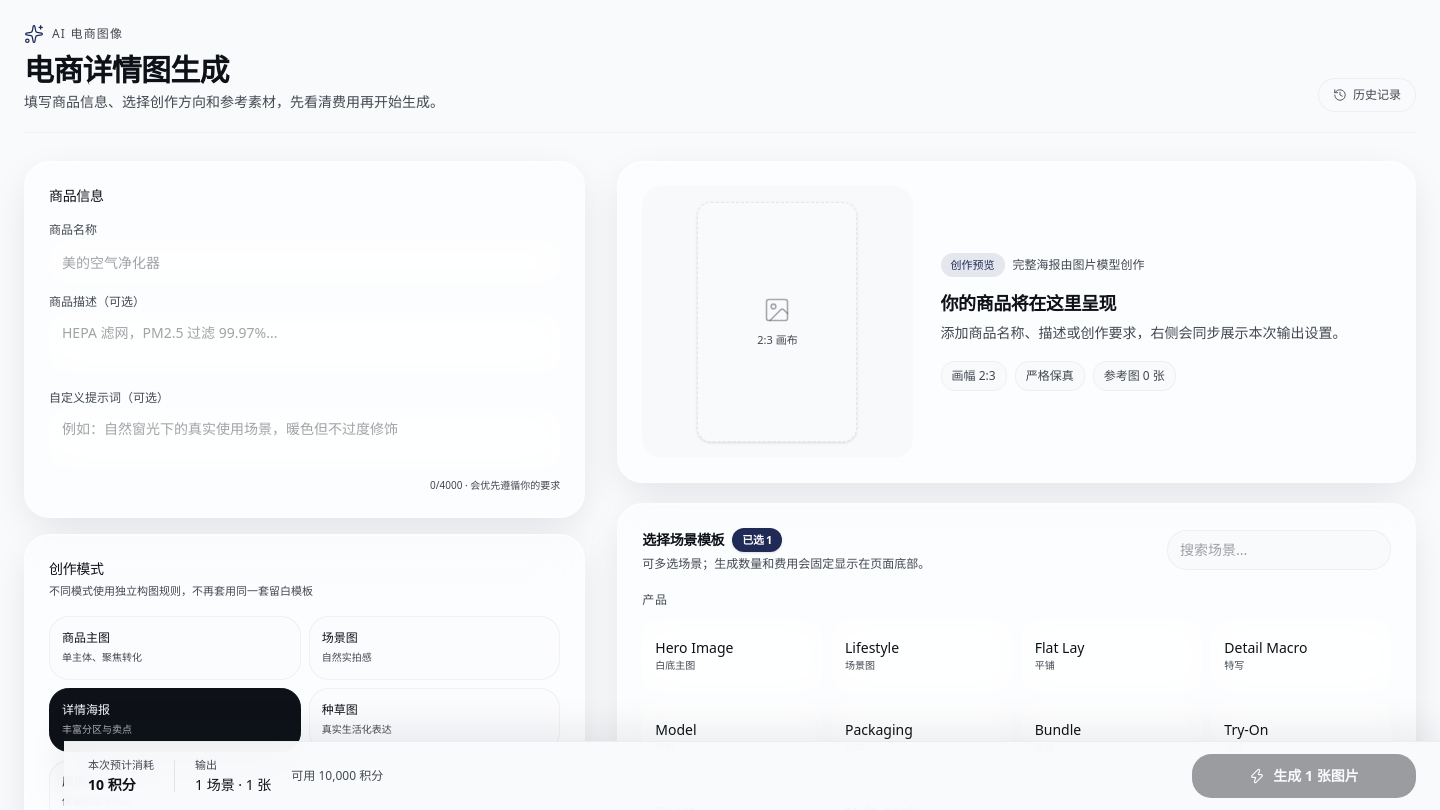
EcomImagesPage interactions › searching with filter input narrows down visible scenes
Expected: the text "产品" is shown, [642,591,668,608]
Type a filter that only matches "hero"
Type "hero" into the field with placeholder "搜索场景..." at (1279, 550), box [1167,530,1391,570]
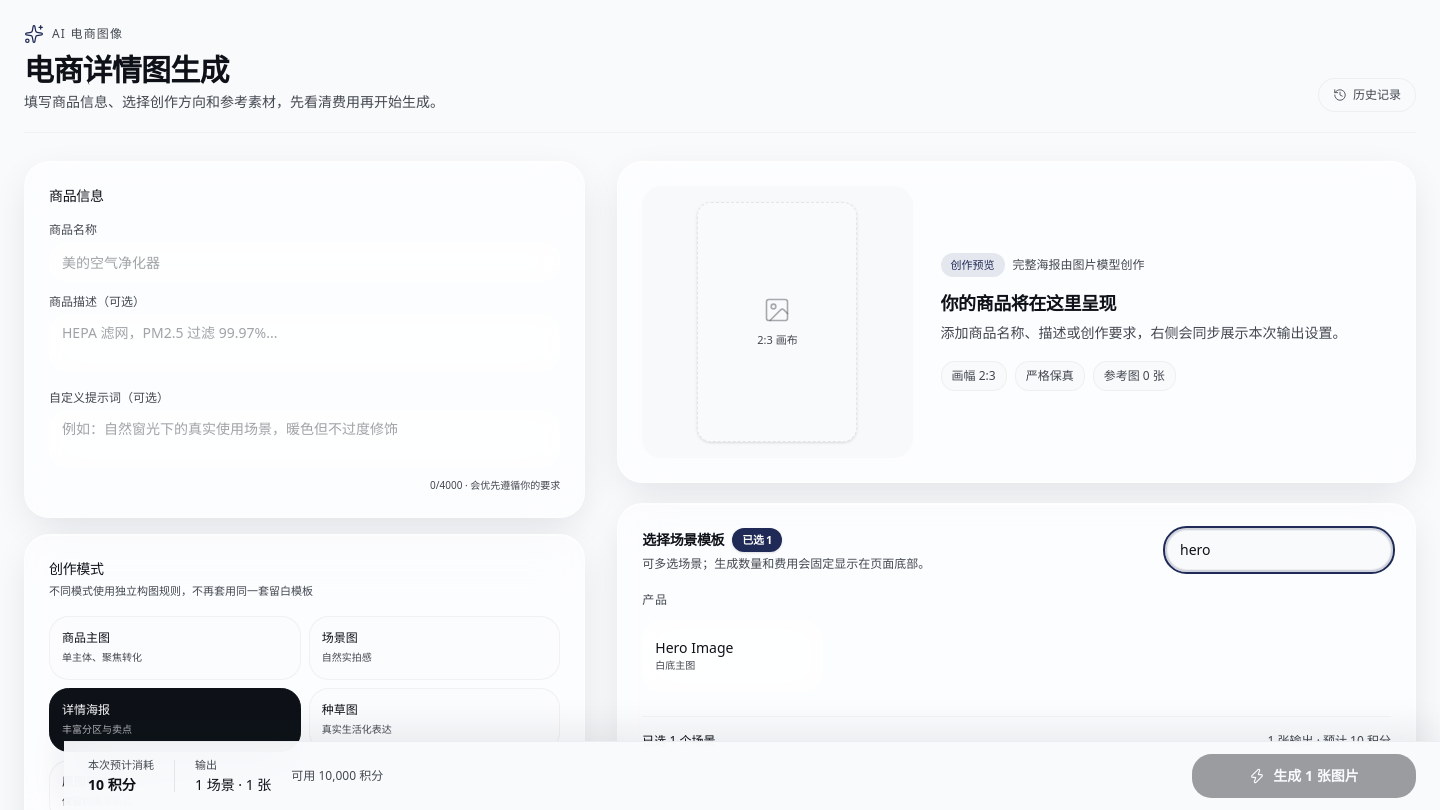
Expected: the number of buttons with test id "scene-card" is 1, [642,620,822,692]
